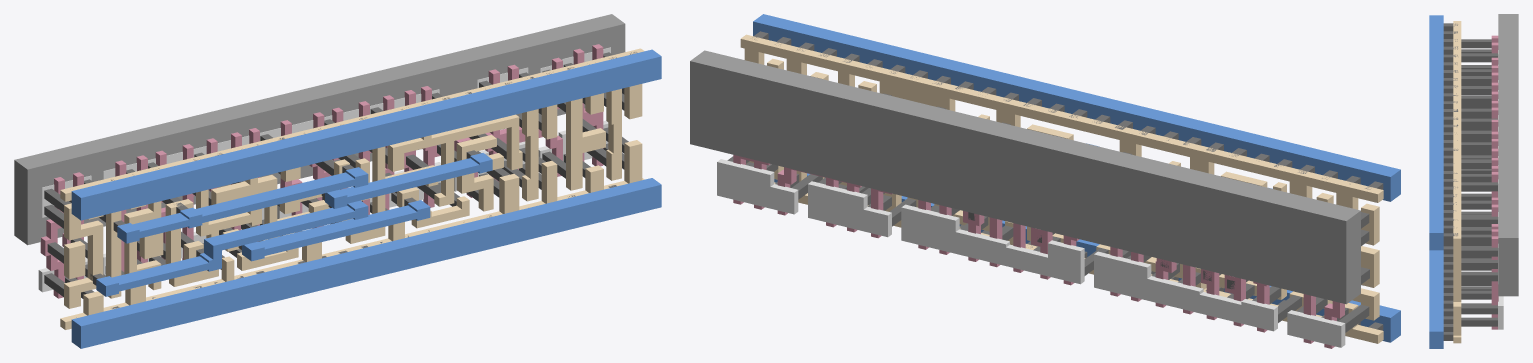
The model's file is sky130_fd_sc_hd__dfbbn_2.gds.gltf.
The picture shows the model from 3 angles, left to right: view 1: azimuth 30°, elevation 25°; view 2: azimuth 150°, elevation 25°; view 3: azimuth 270°, elevation 25°; orthographic projection. The views are drawn at different scales.
Visible parts, largest first — view 1: sky130_fd_sc_hd__dfbbn_2_met1, sky130_fd_sc_hd__dfbbn_2_li1, sky130_fd_sc_hd__dfbbn_2_nwell, sky130_fd_sc_hd__dfbbn_2_poly, sky130_fd_sc_hd__dfbbn_2_licon, sky130_fd_sc_hd__dfbbn_2_diff, sky130_fd_sc_hd__dfbbn_2_mcon; view 2: sky130_fd_sc_hd__dfbbn_2_nwell, sky130_fd_sc_hd__dfbbn_2_diff, sky130_fd_sc_hd__dfbbn_2_li1, sky130_fd_sc_hd__dfbbn_2_met1, sky130_fd_sc_hd__dfbbn_2_poly, sky130_fd_sc_hd__dfbbn_2_licon, sky130_fd_sc_hd__dfbbn_2_mcon; view 3: sky130_fd_sc_hd__dfbbn_2_licon, sky130_fd_sc_hd__dfbbn_2_nwell, sky130_fd_sc_hd__dfbbn_2_met1, sky130_fd_sc_hd__dfbbn_2_mcon, sky130_fd_sc_hd__dfbbn_2_li1, sky130_fd_sc_hd__dfbbn_2_poly, sky130_fd_sc_hd__dfbbn_2_diff.
Boxes of the visible parts, x1,y1,x2,y2 form: sky130_fd_sc_hd__dfbbn_2_met1: (71,49,661,348); sky130_fd_sc_hd__dfbbn_2_li1: (60,48,644,329); sky130_fd_sc_hd__dfbbn_2_nwell: (14,14,625,245); sky130_fd_sc_hd__dfbbn_2_poly: (40,44,603,298); sky130_fd_sc_hd__dfbbn_2_licon: (44,52,628,298); sky130_fd_sc_hd__dfbbn_2_diff: (38,47,610,292); sky130_fd_sc_hd__dfbbn_2_mcon: (76,52,637,317); sky130_fd_sc_hd__dfbbn_2_nwell: (690,50,1360,304); sky130_fd_sc_hd__dfbbn_2_diff: (717,159,1345,347); sky130_fd_sc_hd__dfbbn_2_li1: (740,34,1383,343); sky130_fd_sc_hd__dfbbn_2_met1: (753,14,1400,342); sky130_fd_sc_hd__dfbbn_2_poly: (733,155,1344,348); sky130_fd_sc_hd__dfbbn_2_licon: (727,93,1369,332); sky130_fd_sc_hd__dfbbn_2_mcon: (752,31,1383,330); sky130_fd_sc_hd__dfbbn_2_licon: (1461,39,1497,326); sky130_fd_sc_hd__dfbbn_2_nwell: (1498,14,1518,296); sky130_fd_sc_hd__dfbbn_2_met1: (1429,15,1443,348); sky130_fd_sc_hd__dfbbn_2_mcon: (1443,23,1458,340); sky130_fd_sc_hd__dfbbn_2_li1: (1453,21,1461,343); sky130_fd_sc_hd__dfbbn_2_poly: (1491,35,1498,329); sky130_fd_sc_hd__dfbbn_2_diff: (1498,50,1503,329).
Bounding box in the file's own units: 13.26 × 3.2 × 2.24.
